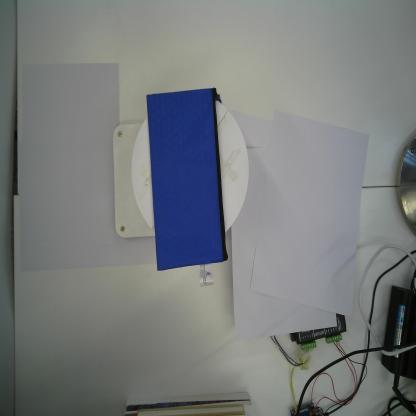Stationery: (145, 87, 229, 271)
